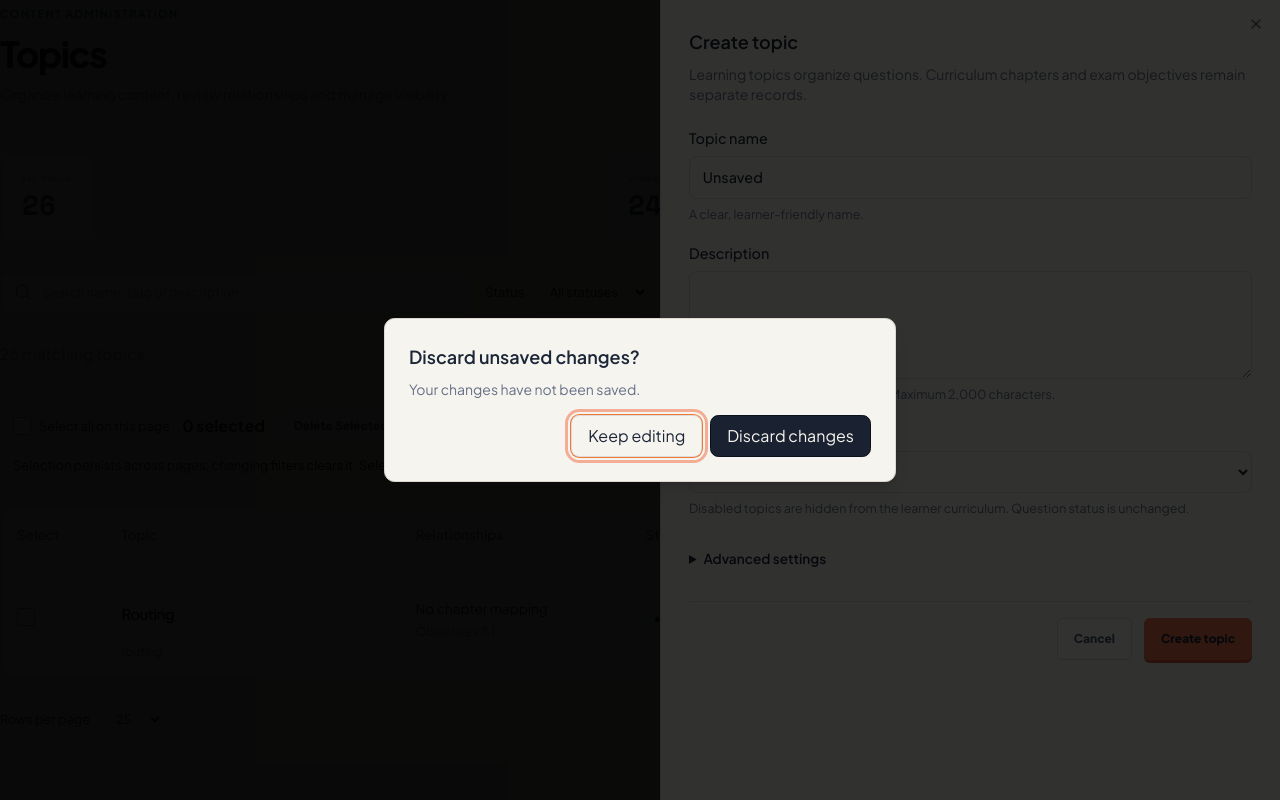
protects unsaved changes and returns keyboard focus after discarding
Earlier steps of the test are not shown.
Click the button "Discard changes" at (791, 436), box [710,415,871,457]
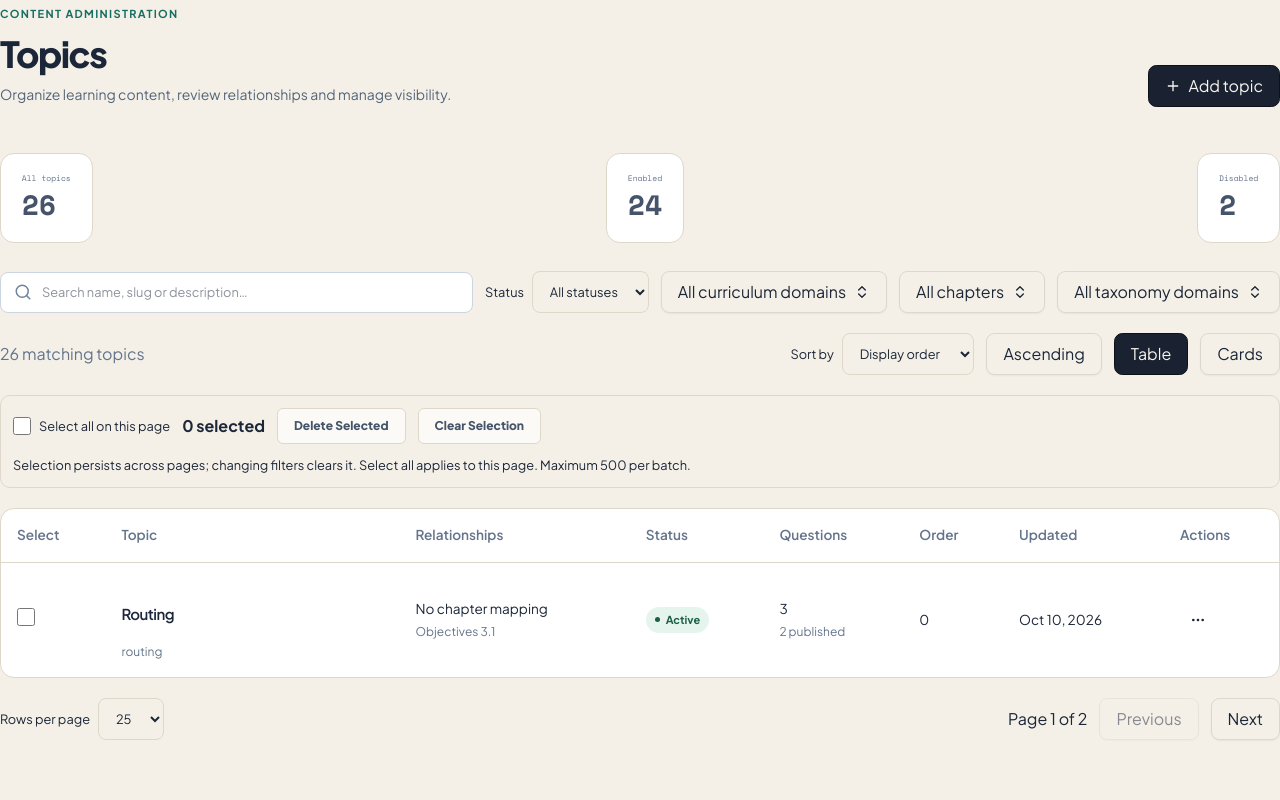
Check: the label "Topic name A clear, learner-friendly name." is gone
